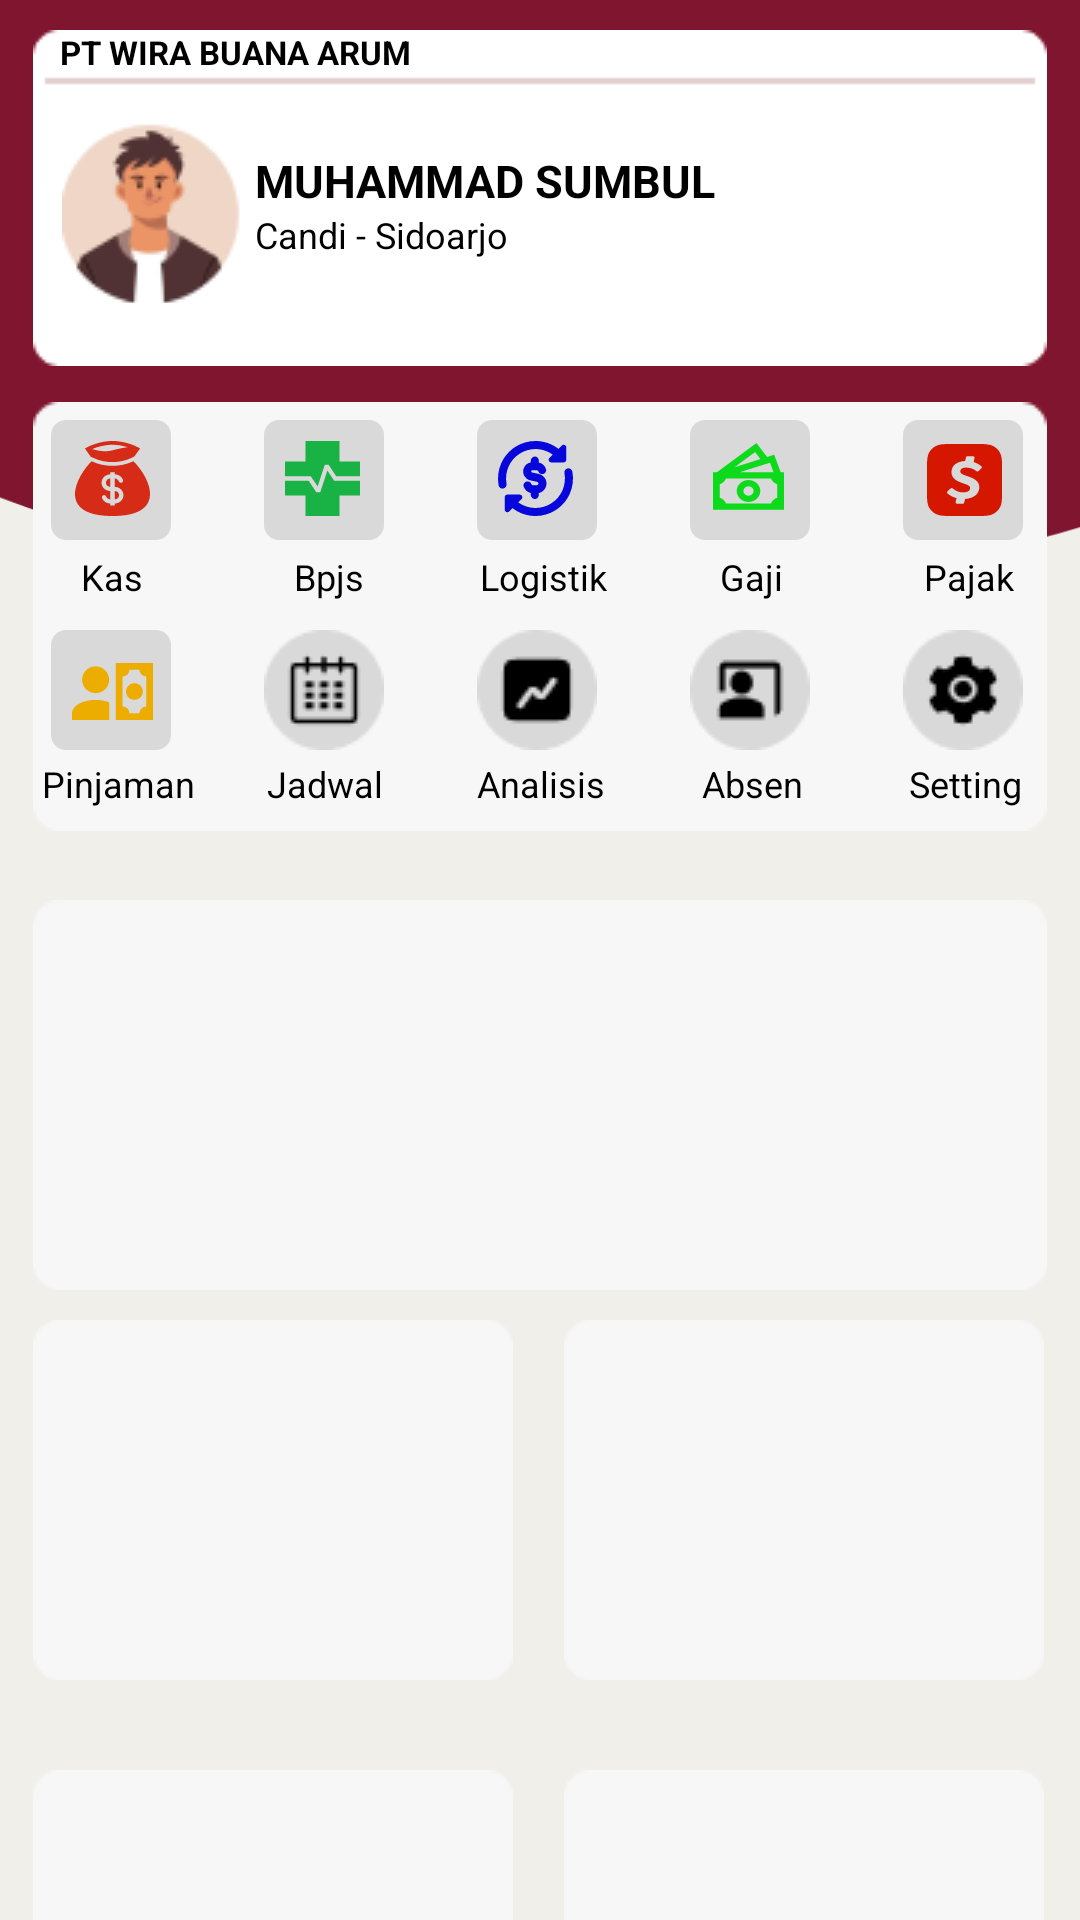

Screen size 1080px×1920px. Icon name, then its box in pixels as region(x1, y1, x2, y2):
profil: region(62, 125, 239, 303)
